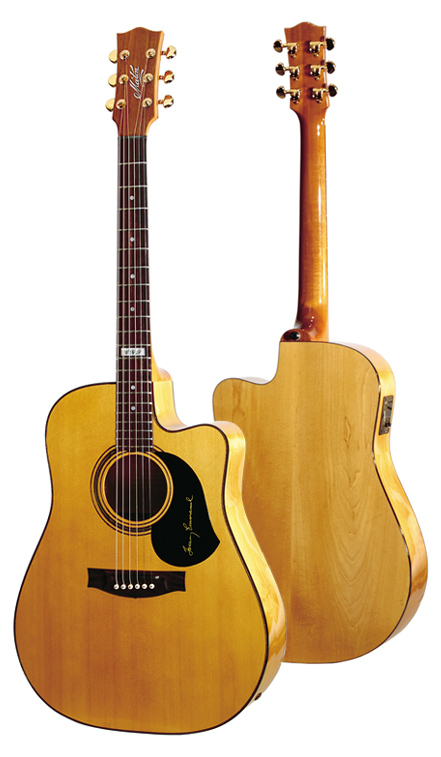guitar: (11, 21, 290, 740), (206, 21, 430, 667)
